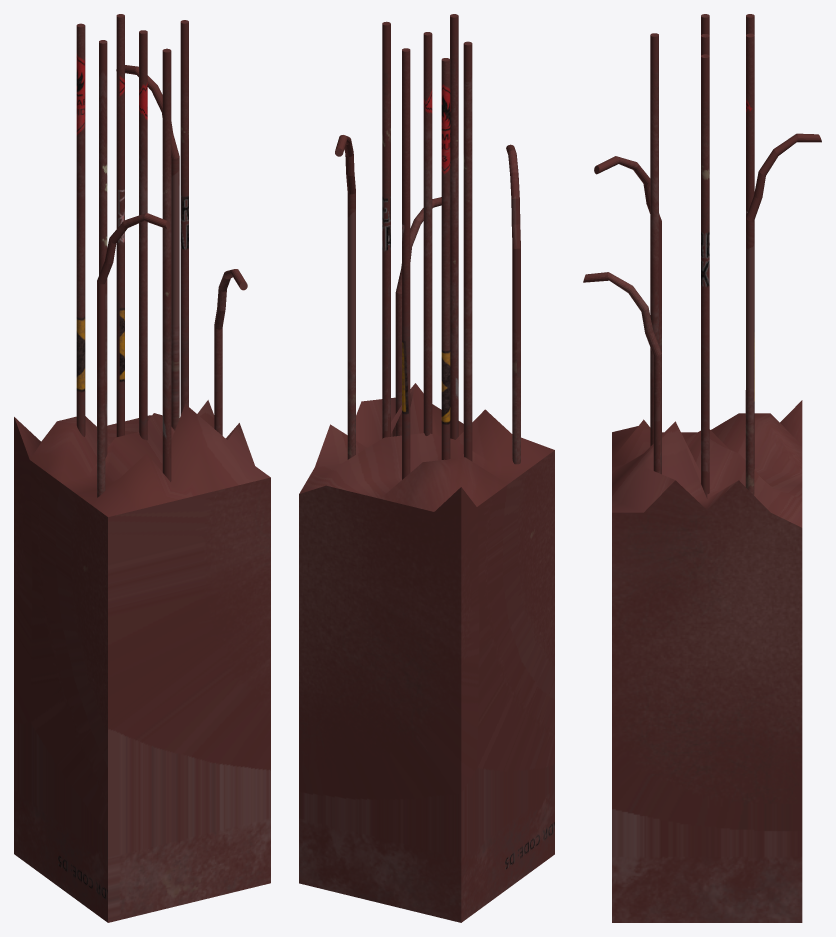
File: CS_collumn_large_05.FBX
3 renders of one model, left to right at view 1: azimuth 30°, elevation 25°; view 2: azimuth 150°, elevation 25°; view 3: azimuth 270°, elevation 25°, orthographic.
Parts seen in each view (by area): view 1: SM_column_large_05; view 2: SM_column_large_05; view 3: SM_column_large_05.
Part boxes in pixels (left/top/right/bottom): SM_column_large_05: left=14, top=14, right=270, bottom=922; SM_column_large_05: left=299, top=14, right=554, bottom=922; SM_column_large_05: left=583, top=14, right=821, bottom=922.
Bounding box in the file's own units: 75 × 94.19 × 369.
